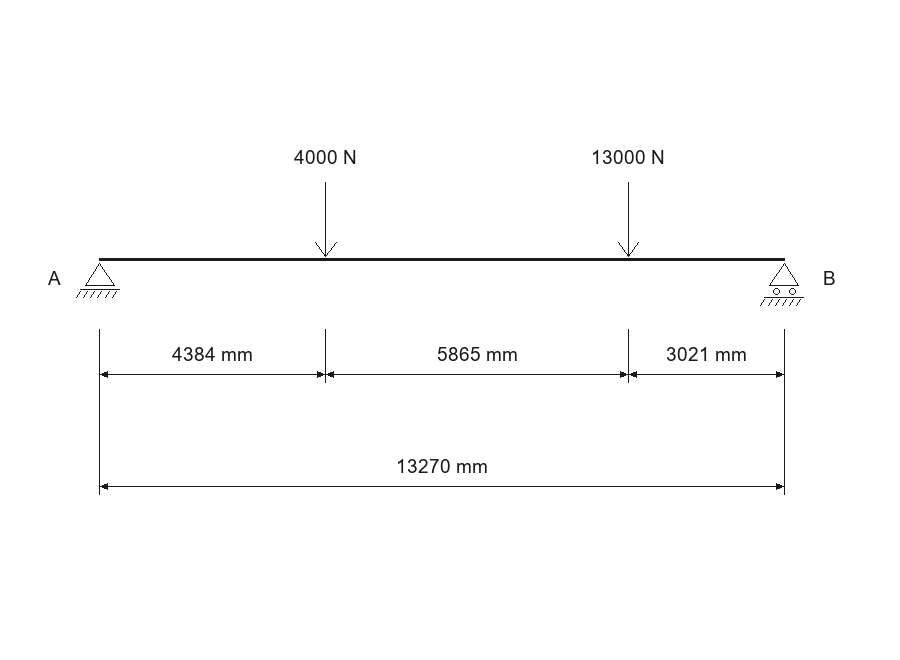pin_support: (76, 263, 120, 298)
point_load: (315, 182, 337, 257), (618, 182, 639, 257)
roller_support: (760, 263, 804, 306)
